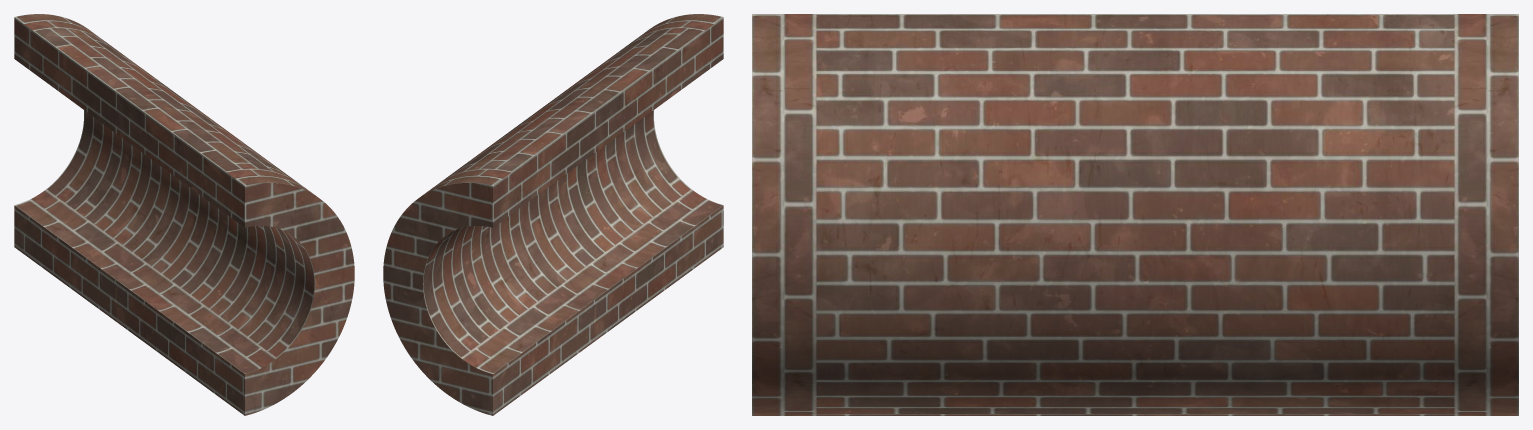
File: ramp_180.dae
3 views of the same model, side by side, from view 1: azimuth 30°, elevation 25°; view 2: azimuth 150°, elevation 25°; view 3: azimuth 270°, elevation 25° (orthographic). The views are drawn at different scales.
Parts seen in each view (by area): view 1: Component_18 (×3); view 2: Component_18 (×3); view 3: Component_18.
Boxes of the visible parts, bbox=[...] form: Component_18 (×3): bbox=[14, 14, 354, 415]; Component_18 (×3): bbox=[383, 14, 723, 415]; Component_18: bbox=[752, 14, 1518, 415].
Size of the model in its own units: 10.83 by 39.37 by 21.65.
Materials: 2 (2 with a texture image).
